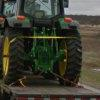Tractor: (2, 0, 82, 91)
